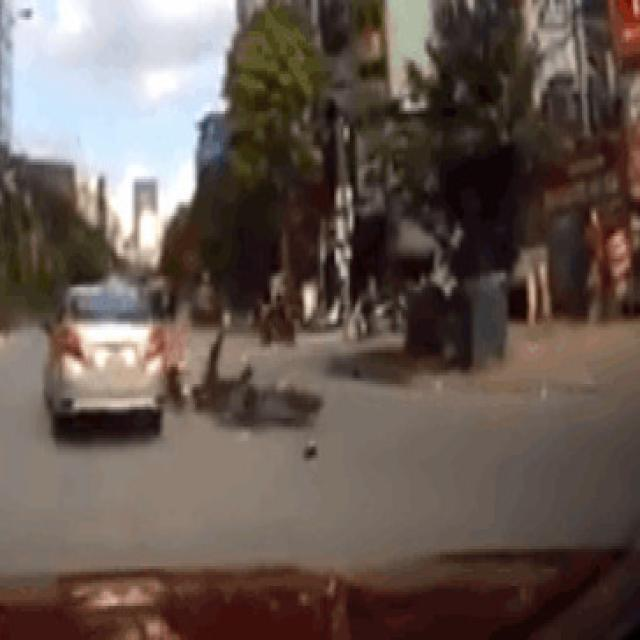multiple_accident: (41, 276, 338, 471)
